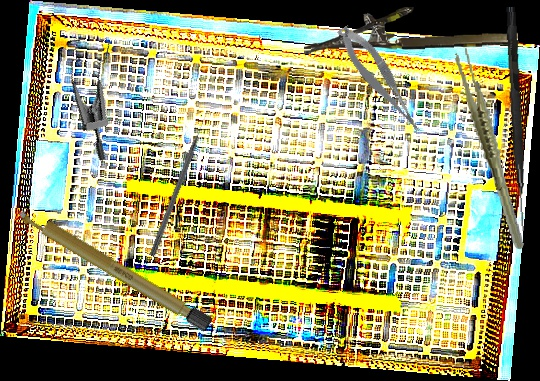Hook Surgical: (148, 114, 210, 258), (503, 6, 531, 232)
Micro Scissor: (333, 17, 426, 143)
Needle Holder: (302, 3, 519, 54)
Scalpel Handle: (10, 201, 216, 334)
Speculum: (46, 25, 155, 163)
Tissue Forceps: (452, 43, 527, 255)
